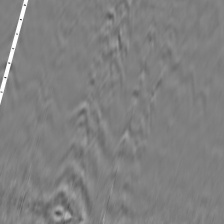cavities: (20, 73, 126, 168)
